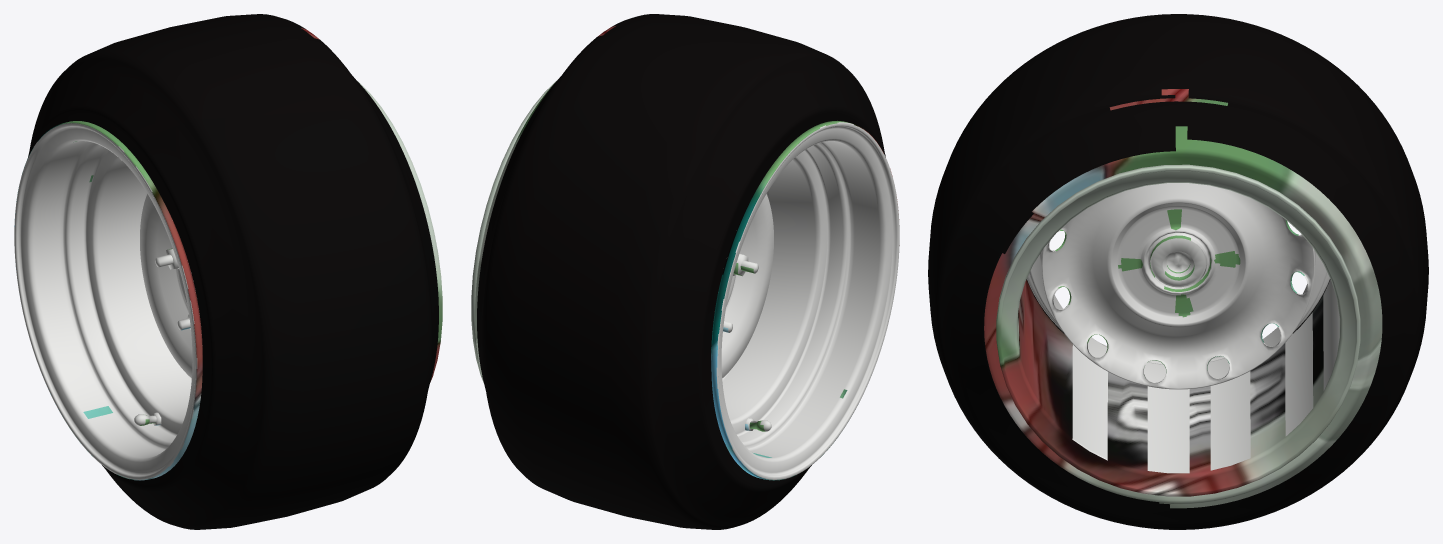
File: llanataDD.obj
3 views of the same model, side by side, from view 1: azimuth 30°, elevation 25°; view 2: azimuth 150°, elevation 25°; view 3: azimuth 270°, elevation 25° (orthographic).
Parts seen in each view (by area): view 1: Wheel_195_50R13x10_002; view 2: Wheel_195_50R13x10_002; view 3: Wheel_195_50R13x10_002.
Boxes of the visible parts, x1,y1,x2,y2 form: Wheel_195_50R13x10_002: (14,14,442,529); Wheel_195_50R13x10_002: (471,14,899,529); Wheel_195_50R13x10_002: (928,14,1428,529).
Bounding box in the file's own units: 2.03 × 3.58 × 3.58.
